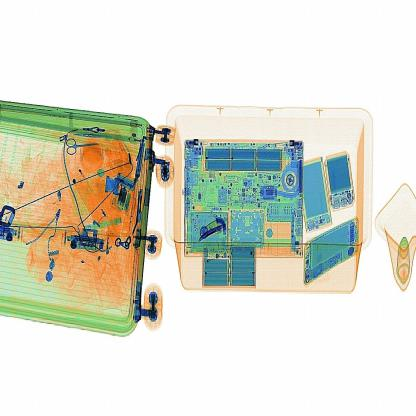pliers: (195, 211, 235, 243)
